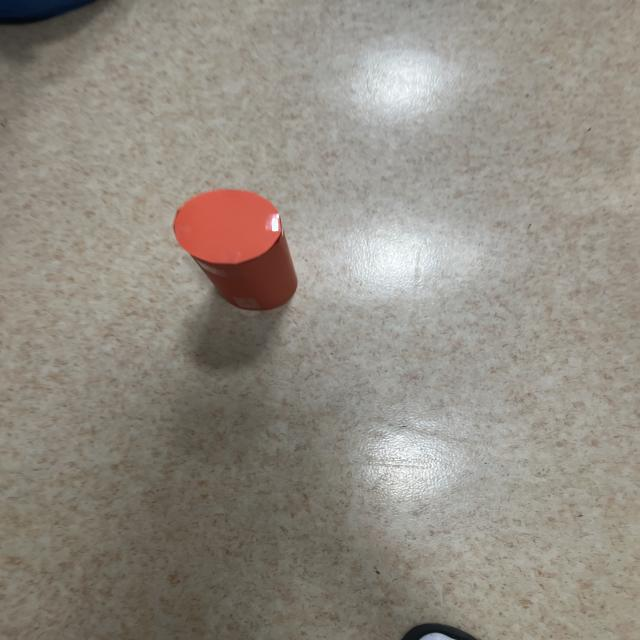przeszkoda: (174, 190, 297, 310)
